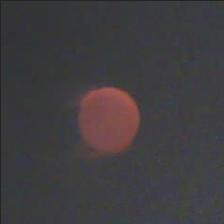infertile: (74, 83, 140, 157)
